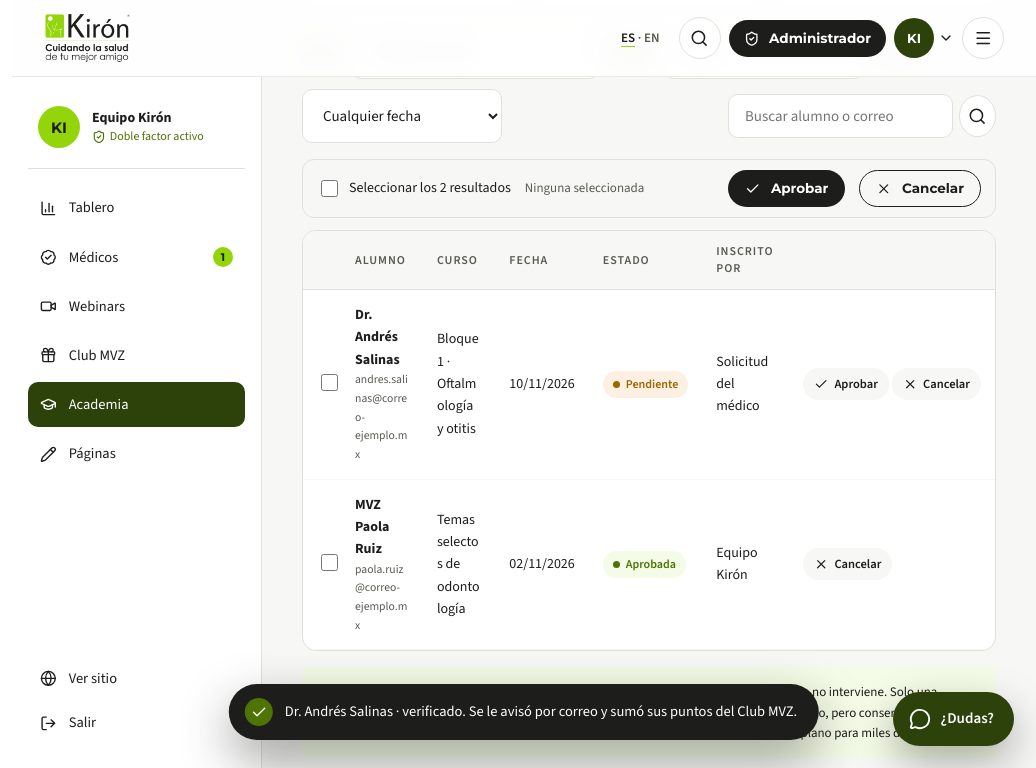
Scenario: inscripciones › aprueba una pendiente y cancela una aprobada
(page scrolled)
Click the button named "Aprobar · Dr. Andrés Salinas · Bloque 1 · Oftalmología y otitis".
click(846, 384)  # box x1=803 y1=368 x2=889 y2=400
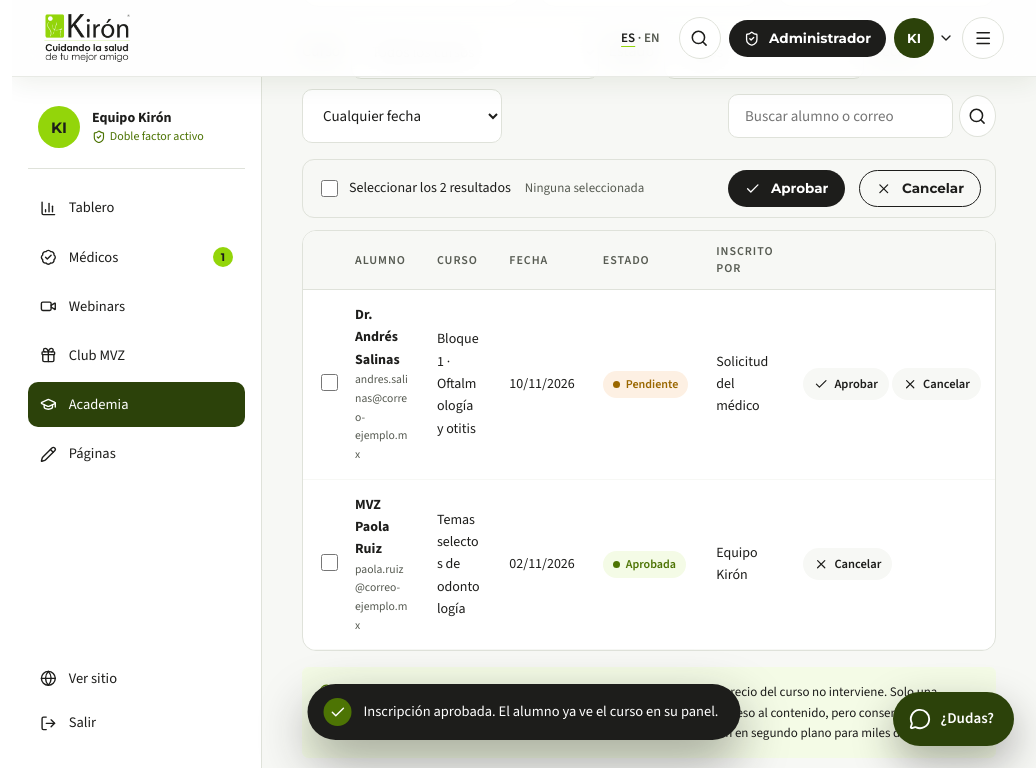
Expected: the text with class "msg" reads "Inscripción aprobada. El alumno ya ve el curso en su panel.", x1=364 y1=701 x2=718 y2=722
Click the button with aria-label "Cancelar · MVZ Paola Ruiz · Temas selectos de odontología".
click(848, 564)  # box x1=803 y1=548 x2=892 y2=580
(page scrolled)
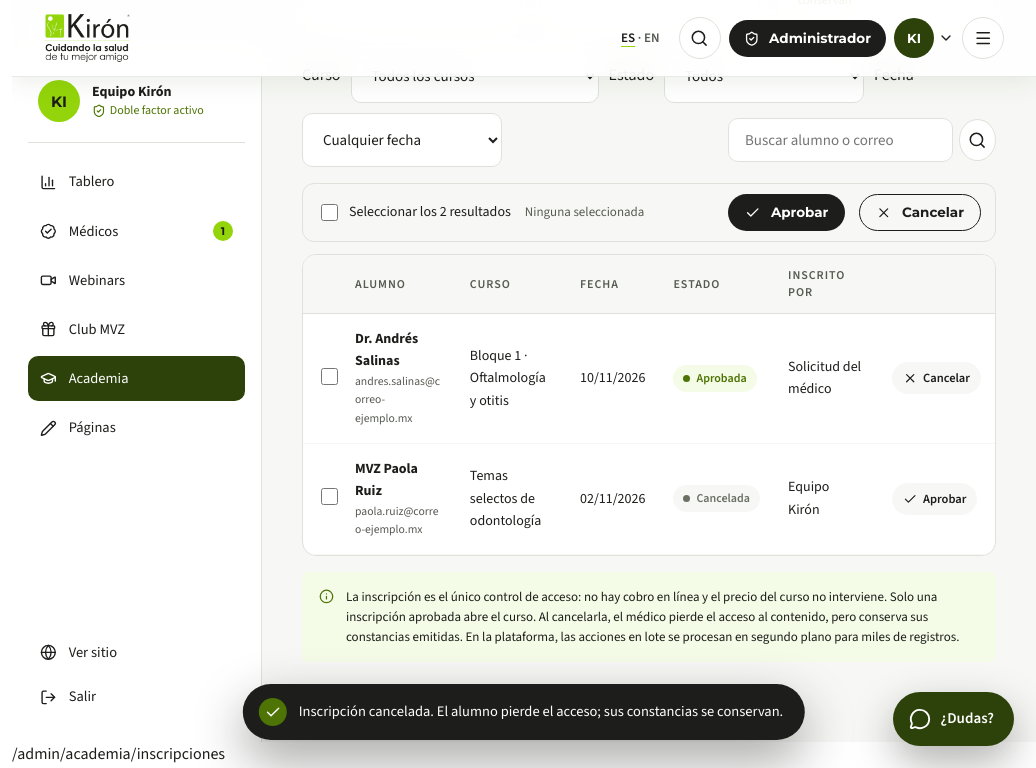
Expected: the text with class "msg" reads "Inscripción cancelada. El alumno pierde el acceso; sus constancias se conservan.", x1=299 y1=701 x2=783 y2=722
